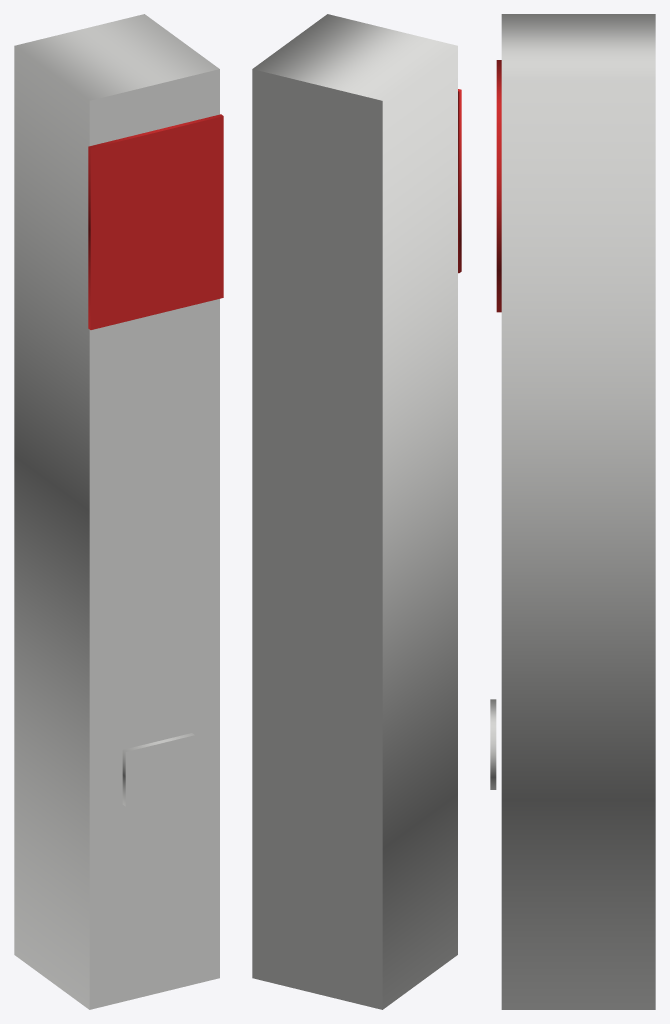
3 renders of one model, left to right at view 1: azimuth 30°, elevation 25°; view 2: azimuth 150°, elevation 25°; view 3: azimuth 270°, elevation 25°, orthographic. The views are drawn at different scales.
Visible parts, largest first — view 1: J3_r00, J3_r375, J3_r388; view 2: J3_r00, J3_r375; view 3: J3_r00, J3_r375, J3_r388.
Boxes of the visible parts, bbox=[...] form: J3_r00: bbox=[14, 14, 219, 1009]; J3_r375: bbox=[88, 114, 223, 329]; J3_r388: bbox=[122, 733, 194, 806]; J3_r00: bbox=[252, 14, 457, 1009]; J3_r375: bbox=[458, 89, 461, 273]; J3_r00: bbox=[501, 14, 655, 1009]; J3_r375: bbox=[496, 60, 501, 312]; J3_r388: bbox=[490, 699, 496, 789].
Bounding box in the file's own units: 0.153 × 1 × 0.1612.
